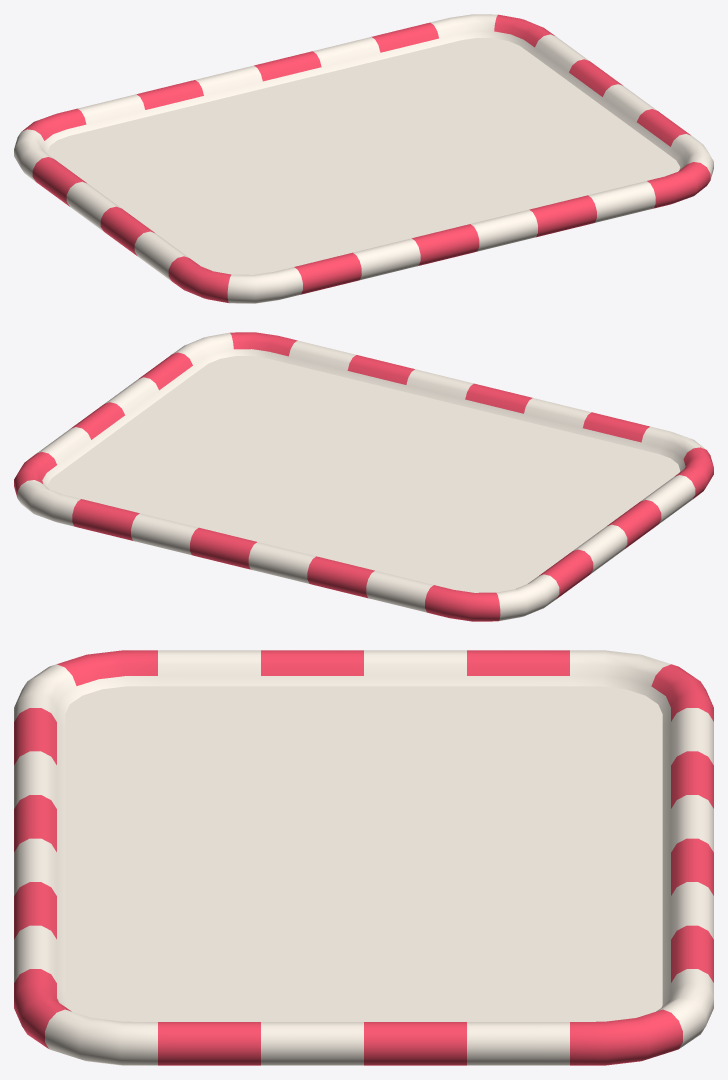
Rendered from platform.glb.
The picture shows the model from 3 angles, top to bottom: view 1: azimuth 30°, elevation 25°; view 2: azimuth 150°, elevation 25°; view 3: azimuth 270°, elevation 25°; orthographic projection. The views are drawn at different scales.
Parts seen in each view (by area): view 1: platform; view 2: platform; view 3: platform.
Part boxes in pixels (bbox=[...]): platform: bbox=[14, 14, 713, 303]; platform: bbox=[14, 332, 713, 621]; platform: bbox=[14, 650, 713, 1065].
Bounding box in the file's own units: 49.72 × 7.26 × 37.72.
